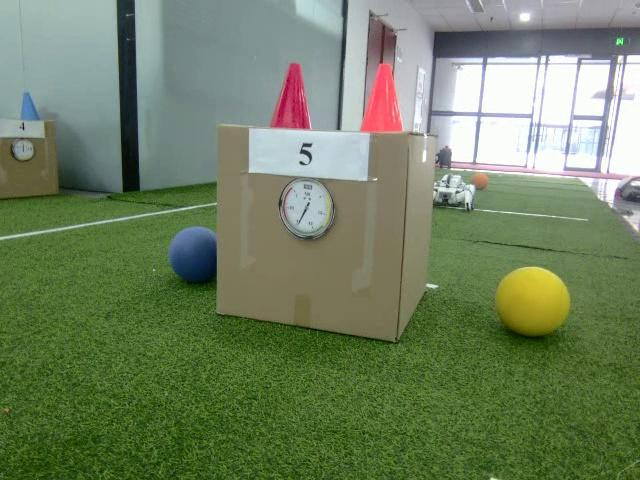4: (18, 122, 28, 131)
5: (297, 141, 314, 168)
Dashboard: (278, 175, 335, 242)
blue_ball: (169, 228, 218, 286)
blue_barrel: (19, 90, 40, 122)
orange_ball: (471, 173, 489, 190)
orange_barrel: (357, 62, 406, 134)
red_barrel: (268, 61, 313, 132)
ssi: (300, 182, 314, 191)
yellow_ball: (494, 266, 571, 337)
